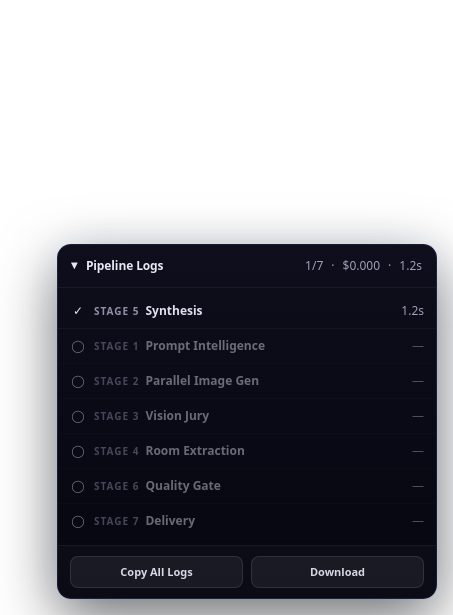
Phase 2.9 Logs Panel — enhancement block › renders ON badge + applied rows when classifier + passes succeeded
Step 1. Click the button with test id "pipeline-logs-row" showing "✓ Stage 5Synthesis 1.2s" → (117, 310), box 58,294 -> 436,328
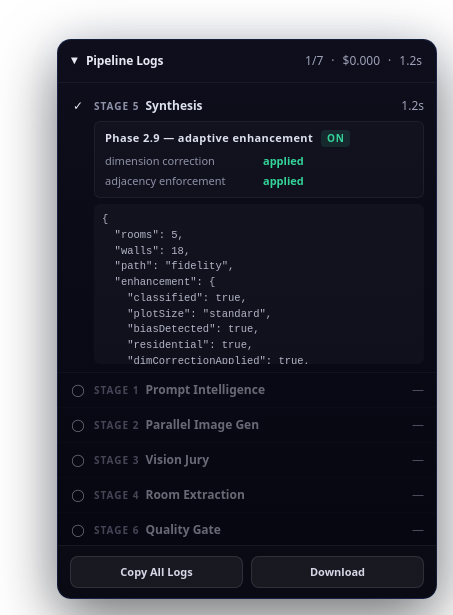
Check: the element with test id "pipeline-logs-phase-29-block" is shown, box 94,121 -> 424,198
Check: the element with test id "pipeline-logs-phase-29-block" shows "ON", box 327,131 -> 344,145
